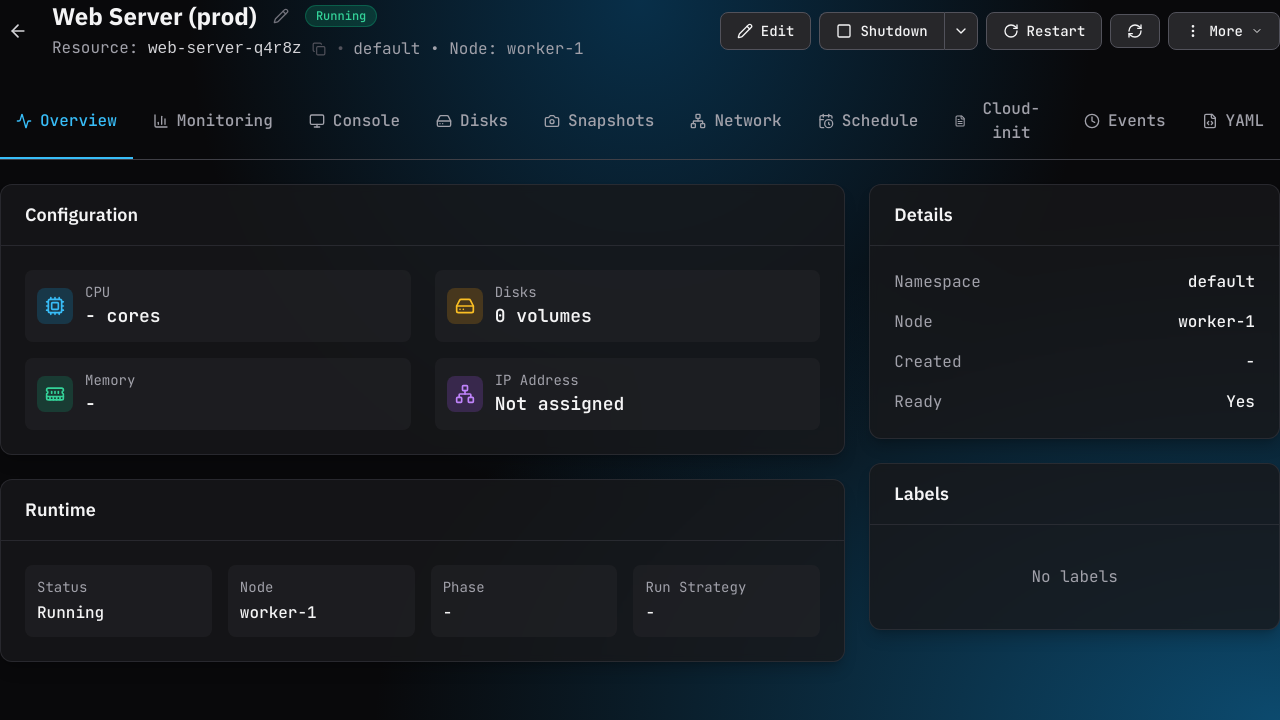
VMDetail – edit display_name modal › clicking pencil opens edit modal
The image size is (1280, 720).
Click the button titled "Edit display name": (281,16) top-left (269, 4), bottom-right (293, 28)
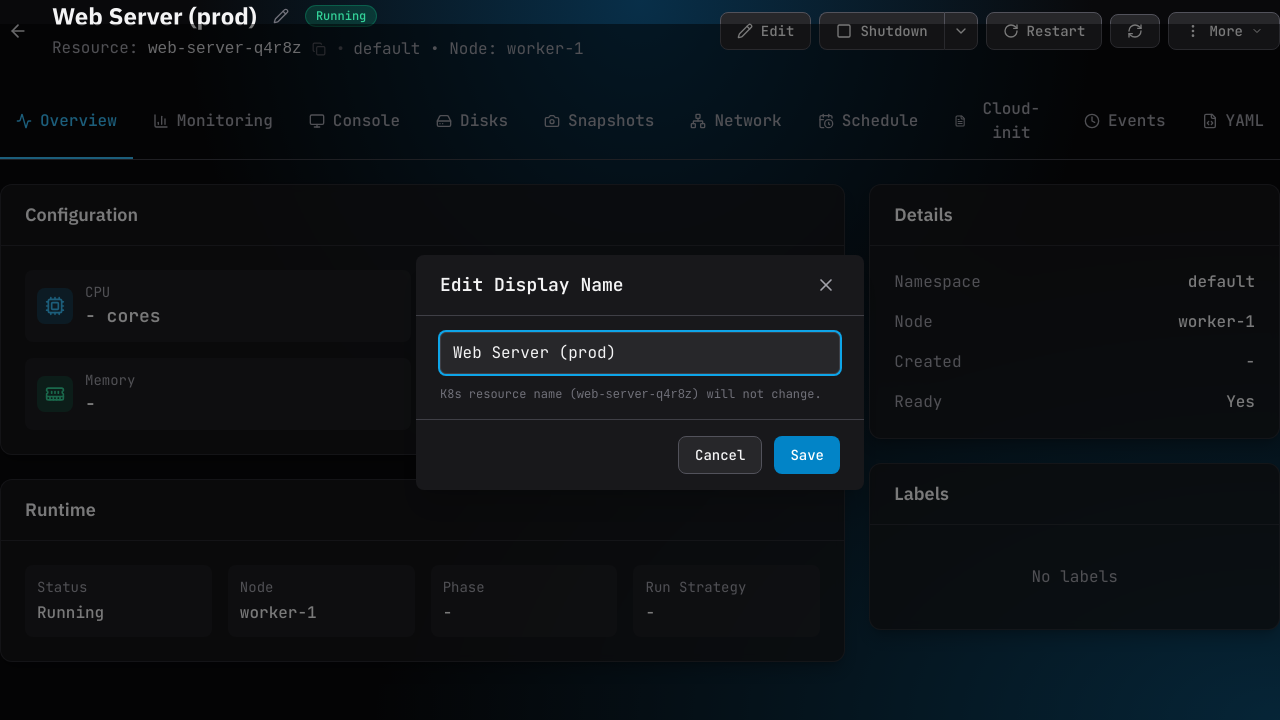
Result: the heading "Edit Display Name" is shown at top-left (440, 270), bottom-right (624, 298)
